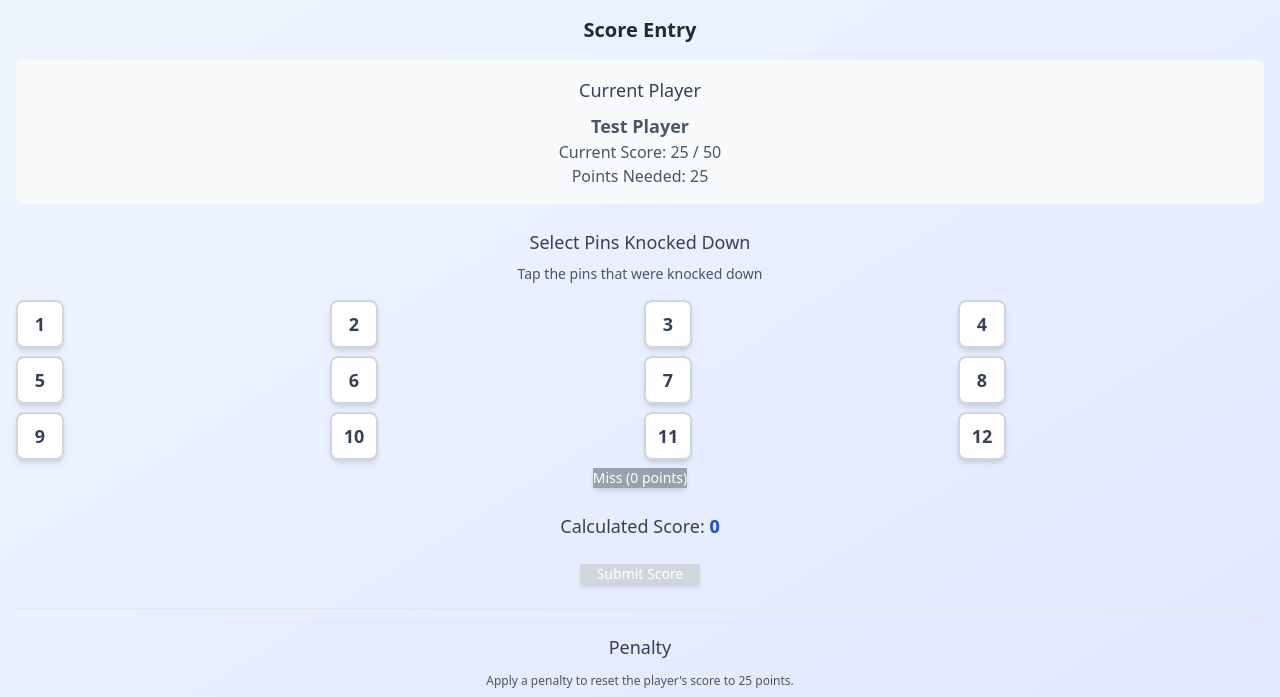
Test: ScoreInput Component › Score Calculation › should calculate single pin score correctly
This screenshot has width=1280, height=697.
What coordinates should you click on to do the following:
click the button "8"
I would click on:
 (982, 380)
Its box is [958,356,1006,404].
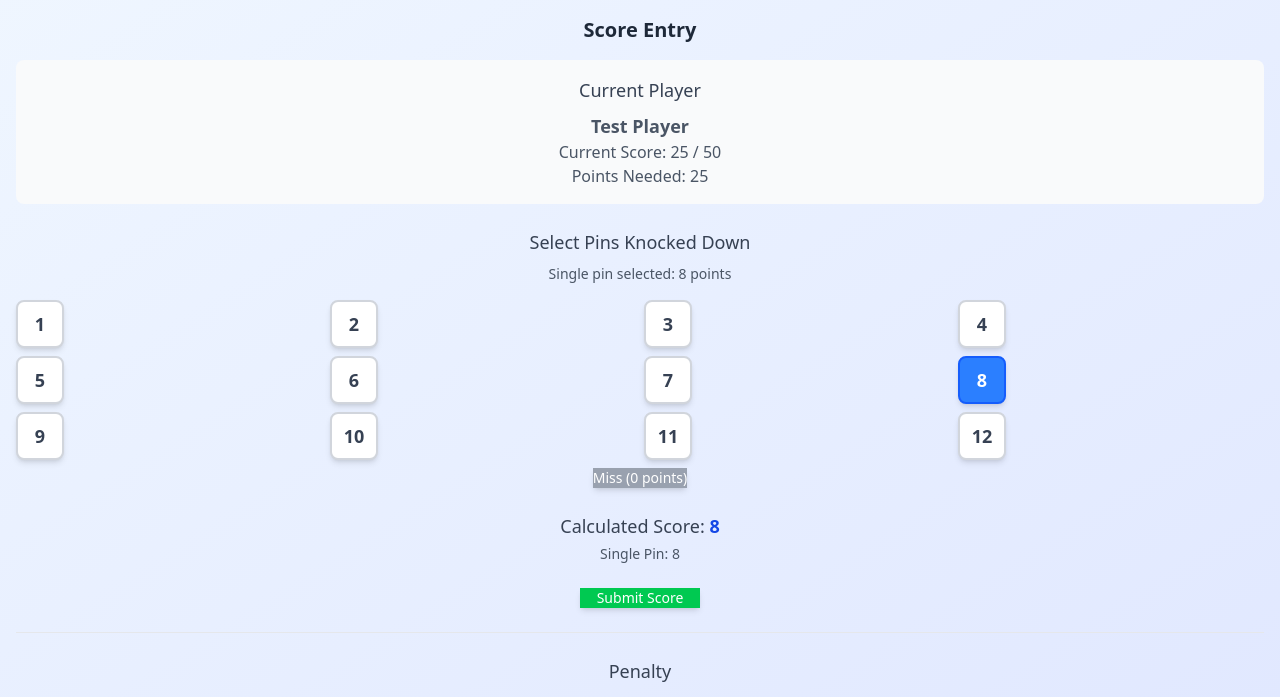
Expected: the text "Calculated Score: 8" is shown, [560,514,720,538]
Result: the text "Single Pin: 8" is shown at [600,544,680,563]
